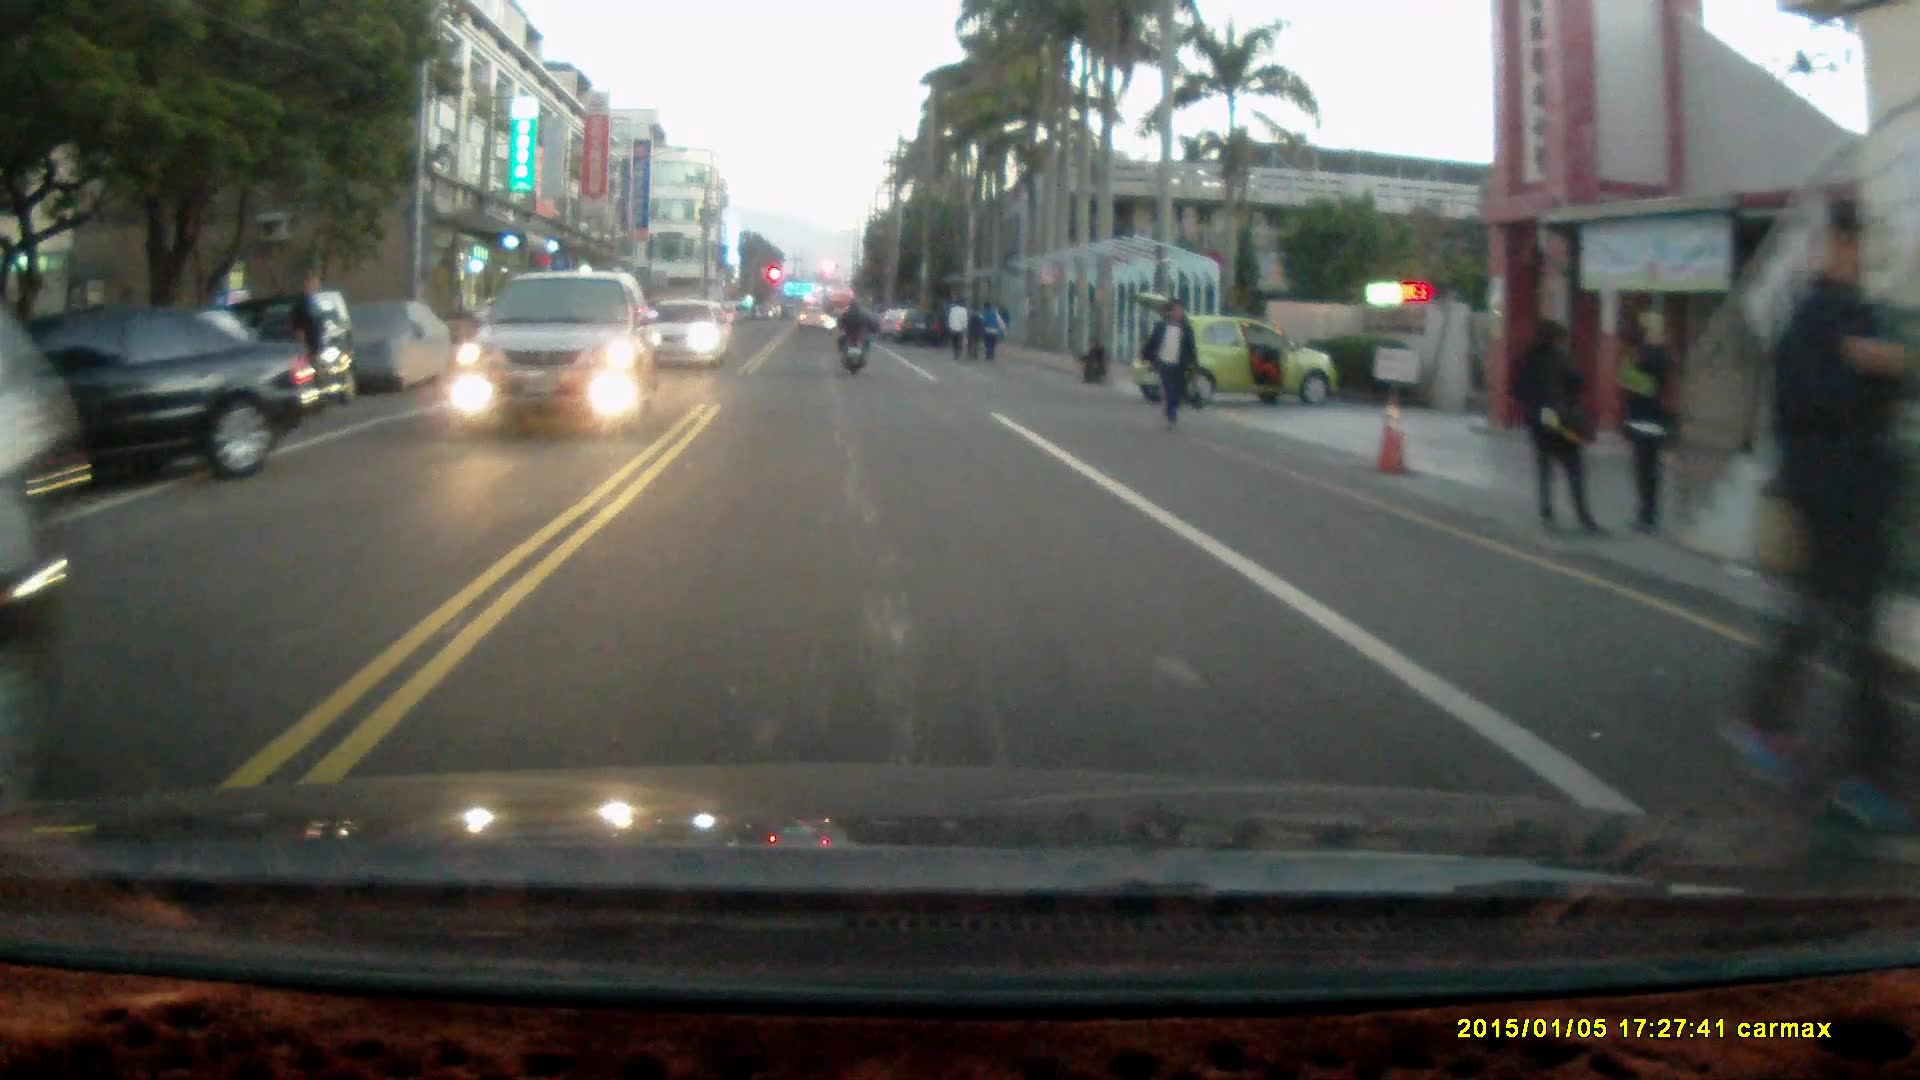pedestrian: (1726, 192, 1919, 843), (1509, 311, 1604, 535), (1616, 315, 1672, 533), (1140, 297, 1200, 434), (977, 295, 1003, 362), (1078, 333, 1110, 382), (944, 293, 966, 359), (964, 302, 984, 363)
rider: (833, 295, 872, 375)
vehicle: (0, 300, 324, 503), (454, 268, 665, 429), (1129, 289, 1348, 405), (186, 290, 358, 419), (642, 299, 733, 371)
